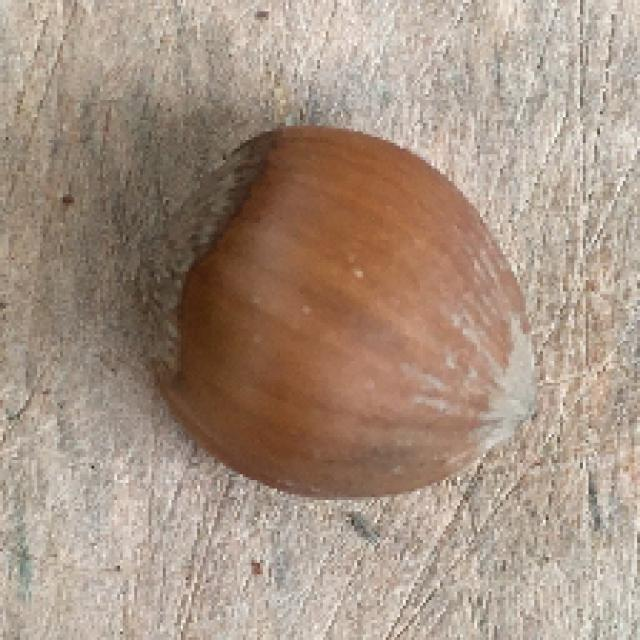qualityHazelnut: (134, 113, 553, 512)
